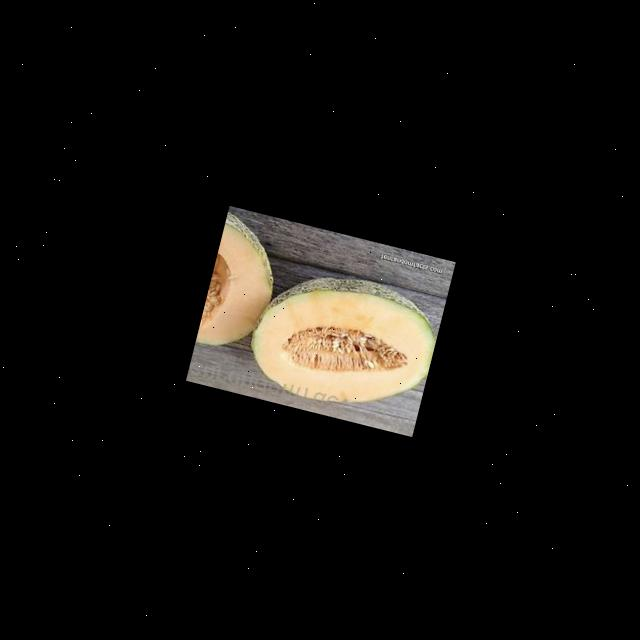Hami Melon: (242, 256, 446, 424), (194, 211, 287, 359)
